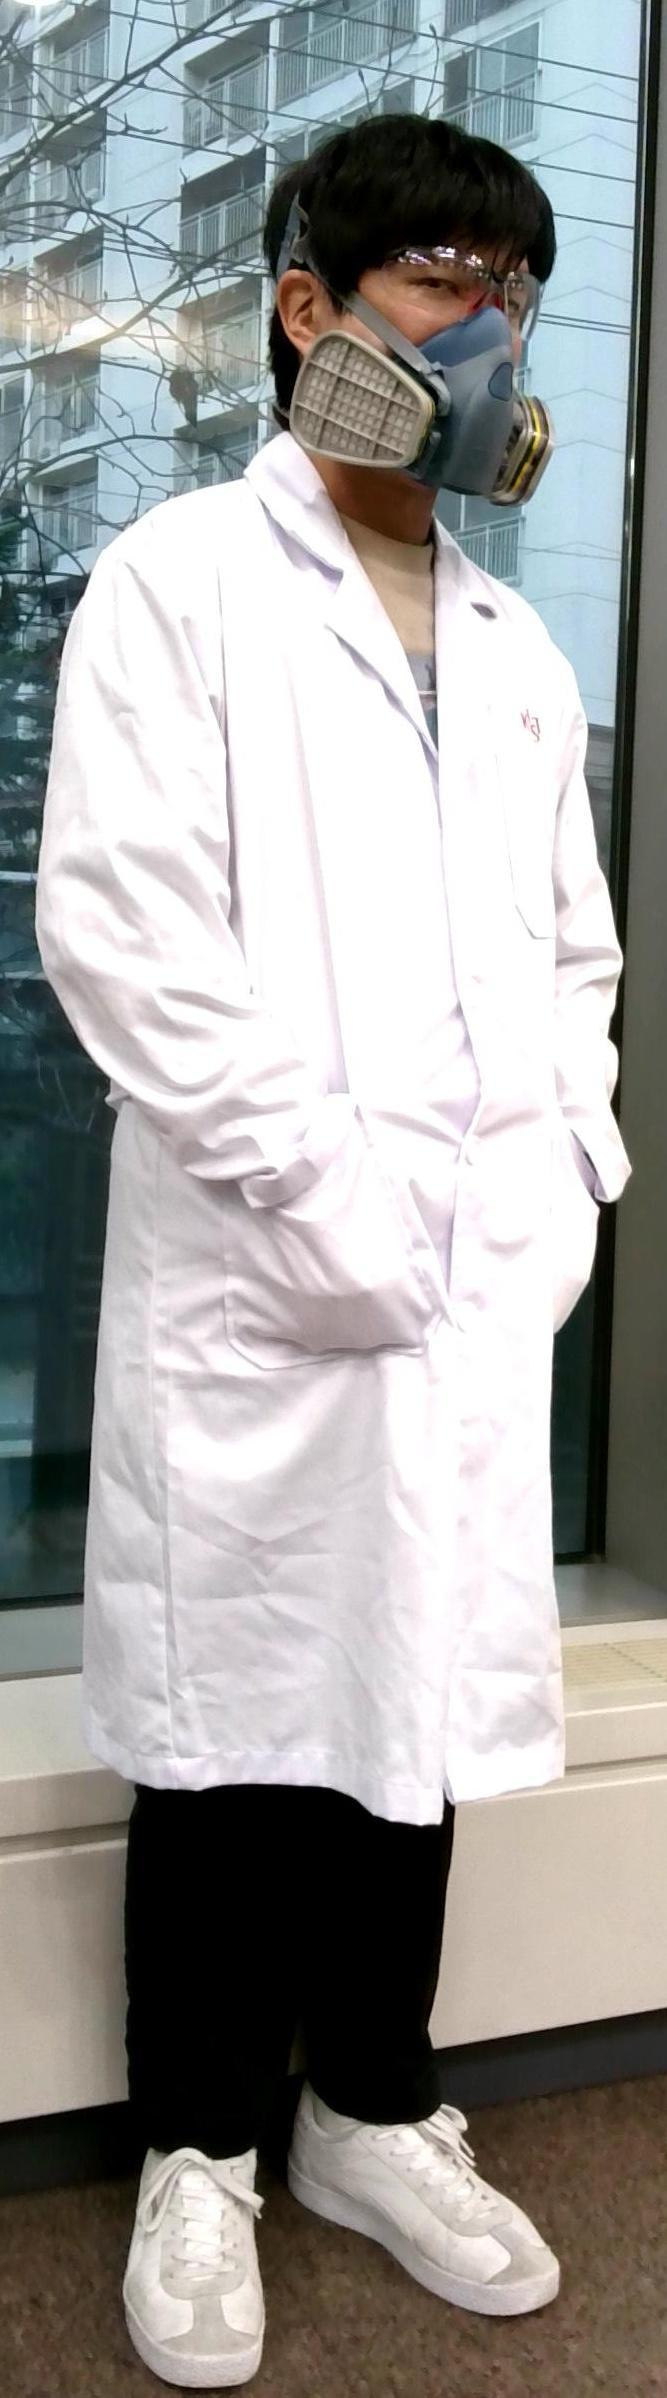lab_coat: (15, 482, 629, 1800)
